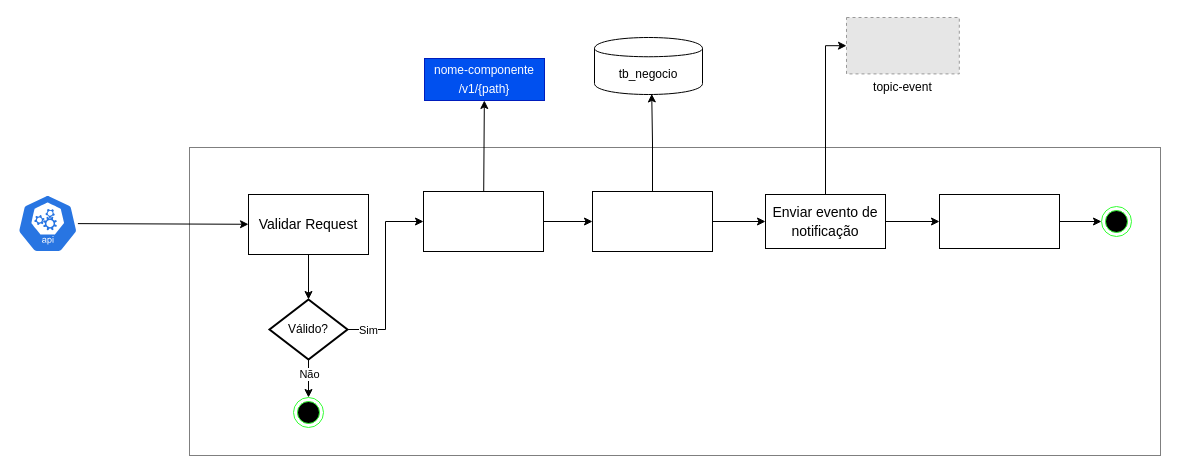
Some shapes in this 1178 by 473 pixel diagram are drawn without their labels. Grey dashed boxes stand in for pictures. Here are the shapes that lost their labels. From the top down, the centre of each, then its label:
At (483,221): "Recuperar Dados".
At (652,221): "Registrar Operação".
At (999,221): "Retornar ID".
